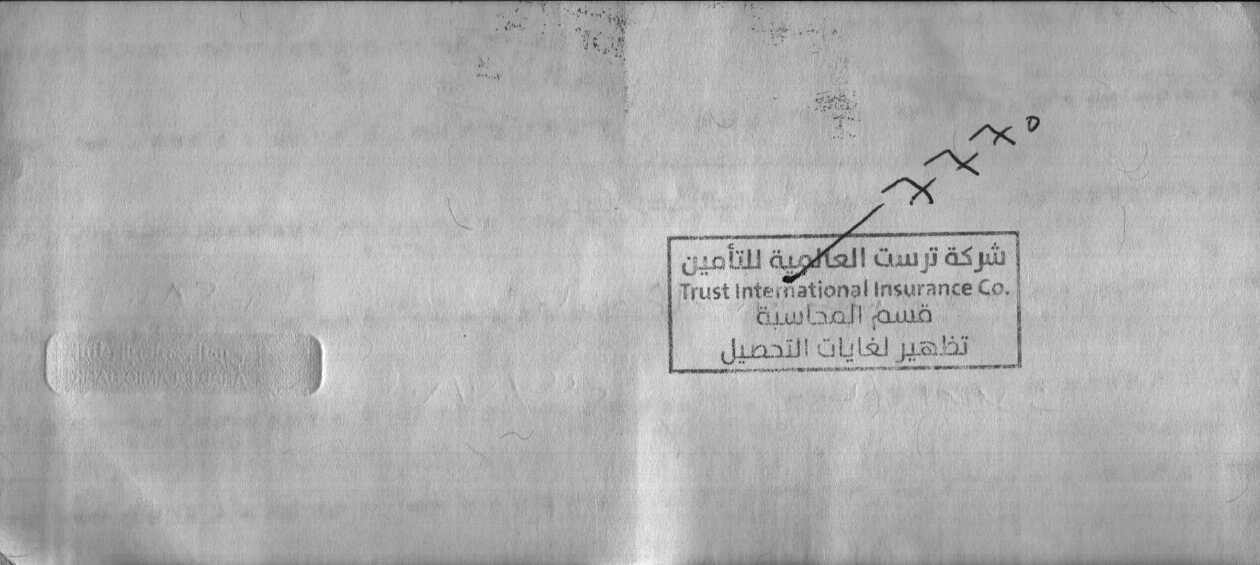stamp: (664, 229, 1025, 377)
